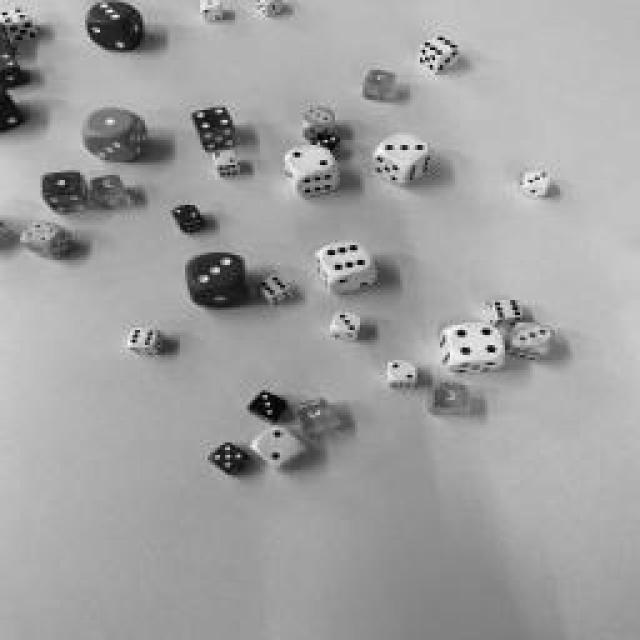dice_1: (86, 109, 134, 136), (42, 170, 80, 195), (200, 0, 220, 8)
dice_2: (250, 426, 305, 469), (289, 146, 331, 172), (172, 201, 198, 224), (389, 360, 416, 380), (212, 150, 238, 165)
dice_3: (188, 252, 242, 288), (381, 135, 429, 165), (295, 400, 335, 430), (249, 392, 286, 420), (515, 322, 553, 348), (89, 1, 131, 24), (434, 381, 468, 409), (365, 71, 395, 89), (302, 106, 332, 124), (334, 312, 361, 332), (311, 134, 339, 151), (525, 170, 547, 185)
dice_4: (451, 325, 504, 360), (192, 108, 232, 132), (22, 221, 58, 244), (1, 6, 29, 24)
dice_5: (209, 442, 251, 472), (91, 175, 124, 195)
dice_6: (320, 242, 370, 272), (421, 35, 459, 55), (259, 276, 289, 296), (492, 300, 522, 320), (129, 329, 156, 346)
